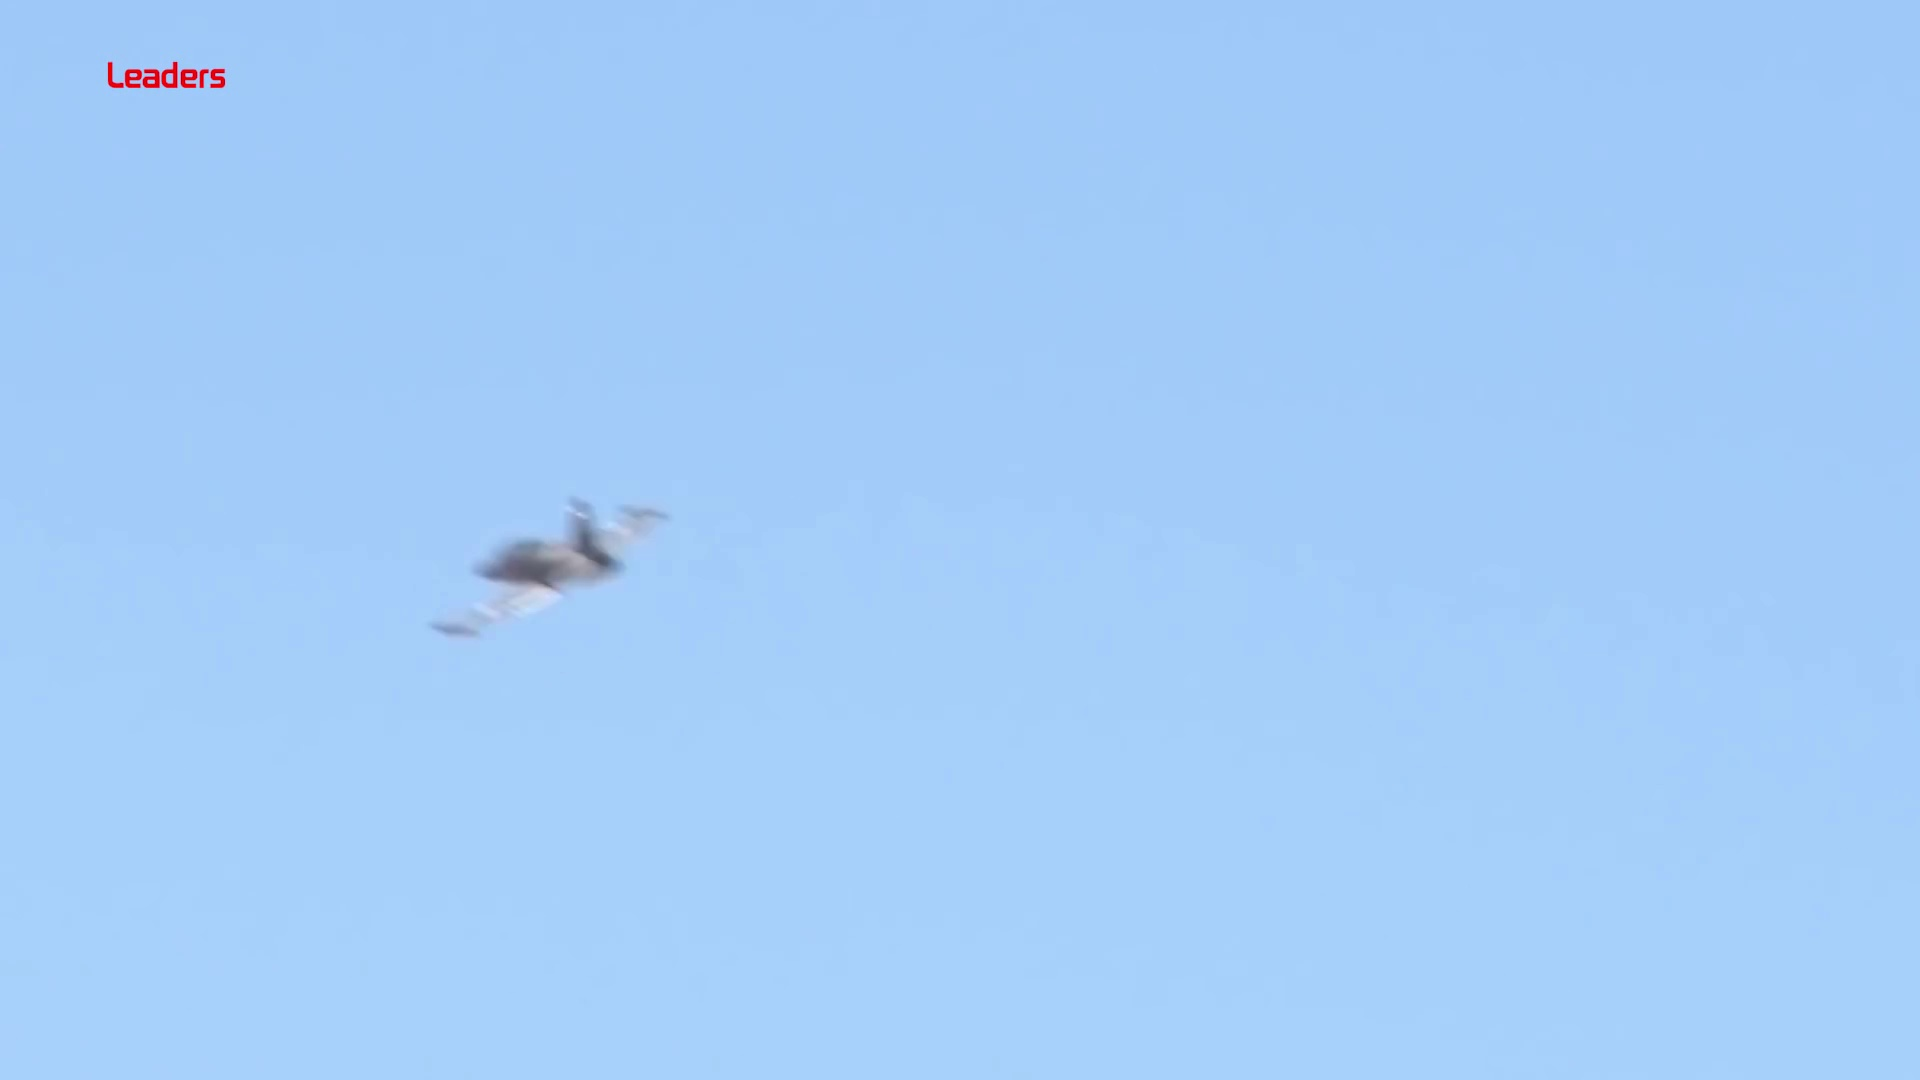Airplane: (425, 488, 666, 650)
